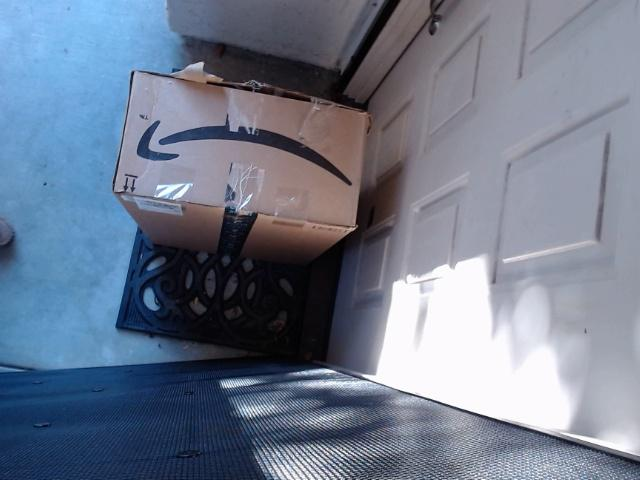box: (120, 69, 372, 259)
